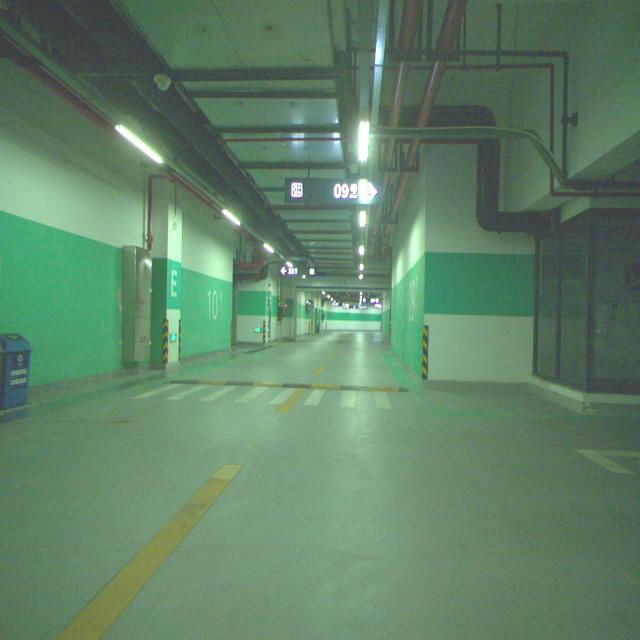wall: (151, 207, 182, 370)
